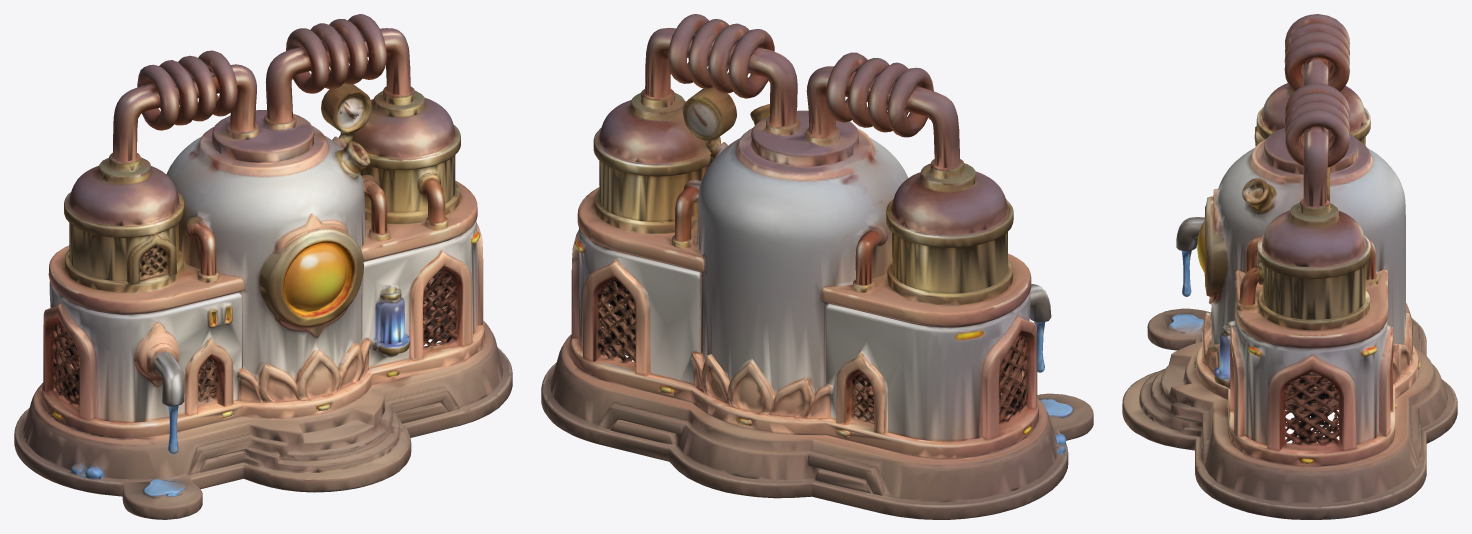
Rendered from sabatier_reactor.glb.
3 renders of one model, left to right at view 1: azimuth 30°, elevation 25°; view 2: azimuth 150°, elevation 25°; view 3: azimuth 270°, elevation 25°, orthographic. The views are drawn at different scales.
Visible parts, largest first — view 1: node_0; view 2: node_0; view 3: node_0.
Boxes of the visible parts, x1,y1,x2,y2 form: node_0: (14,14,512,519); node_0: (541,14,1093,519); node_0: (1122,14,1457,519).
Size of the model in its own units: 0.9517 by 0.7252 by 0.6283.
Materials: 1 (1 with a texture image).
